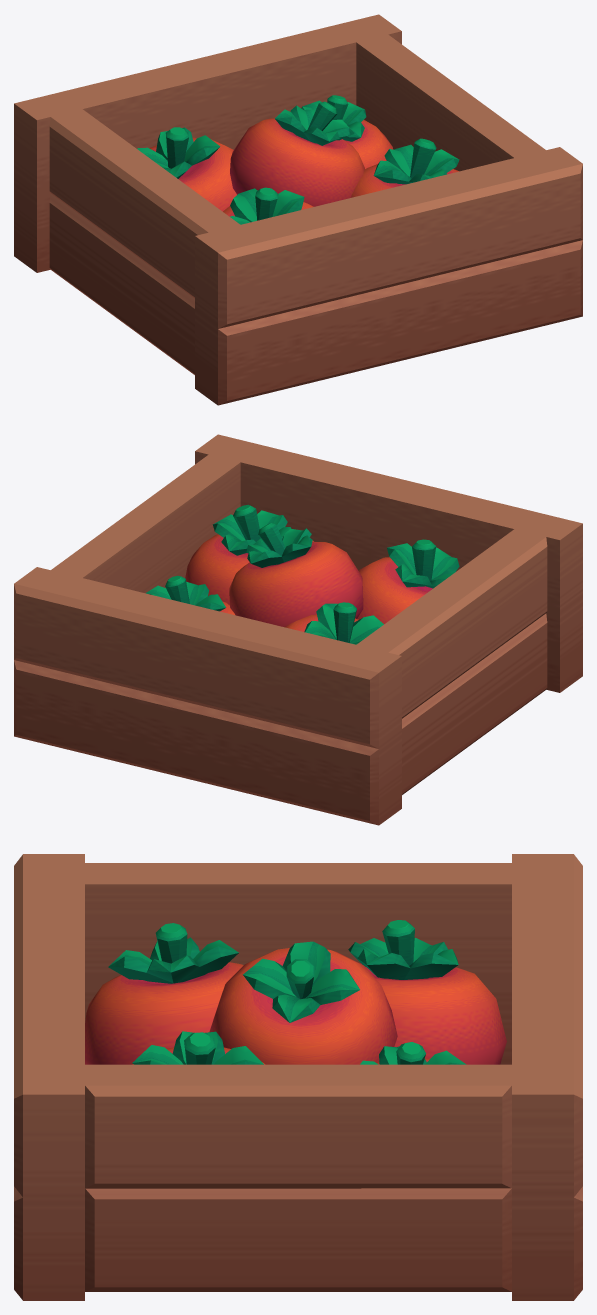
File: crate_tomatoes.gltf
The picture shows the model from 3 angles, top to bottom: view 1: azimuth 30°, elevation 25°; view 2: azimuth 150°, elevation 25°; view 3: azimuth 270°, elevation 25°; orthographic projection. The views are drawn at different scales.
Visible parts, largest first — view 1: crate_tomatoes; view 2: crate_tomatoes; view 3: crate_tomatoes.
Part boxes in pixels (x1,y1,x2,y2): crate_tomatoes: (14, 14, 582, 405); crate_tomatoes: (14, 434, 582, 825); crate_tomatoes: (14, 854, 582, 1300).
Size of the model in its own units: 2 by 0.9233 by 2.
1 material, 1 textured.
